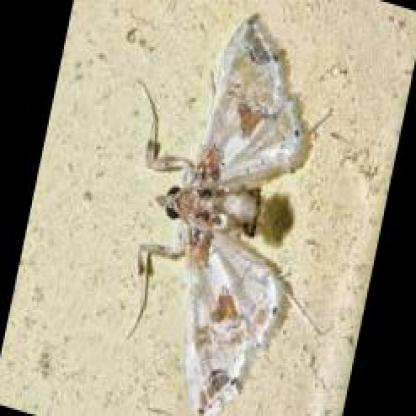leucinodes: (137, 13, 300, 414)
